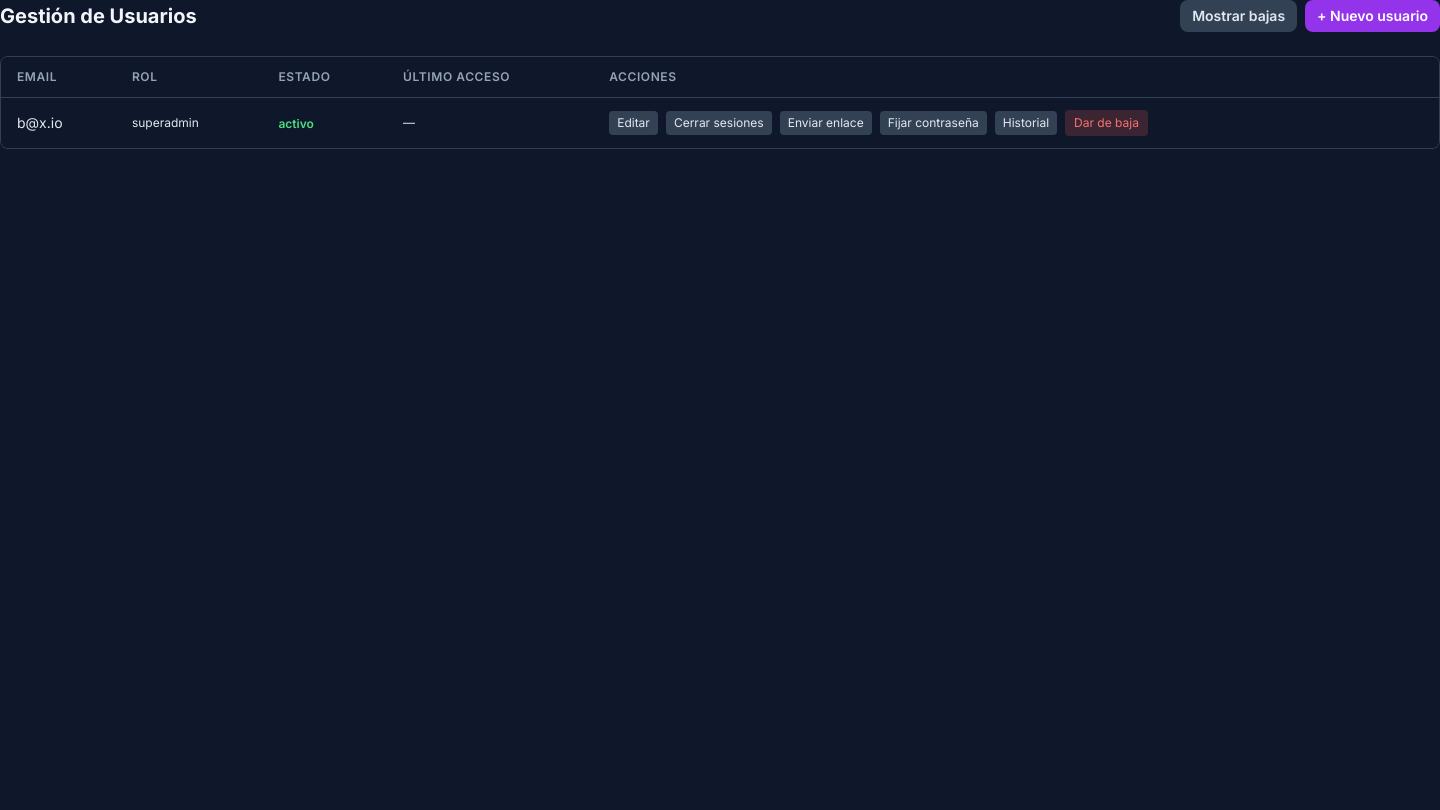
it: AdminUsers -- etapa 3: toasts, edición, sesiones e historial › el historial muestra la acción traducida, el cambio y quién la hizo
Click the button "Historial" at point(1026, 123), box [995,111,1057,135]
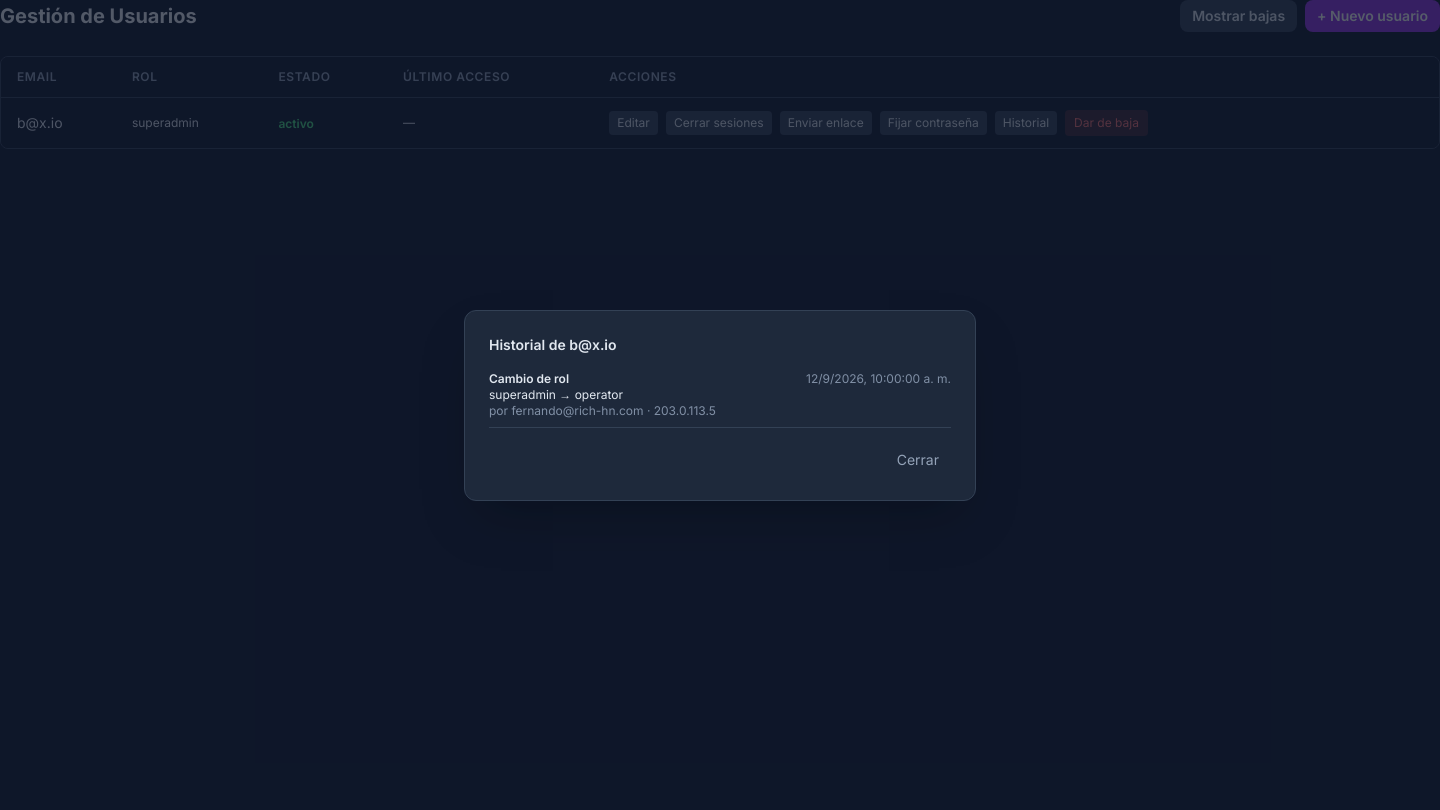
Now the text "Cambio de rol" is shown, box [489,370,569,386]
Now the text "superadmin → operator" is shown, box [489,386,623,402]
Now the text "por fernando@rich-hn.com" is shown, box [489,402,644,418]
